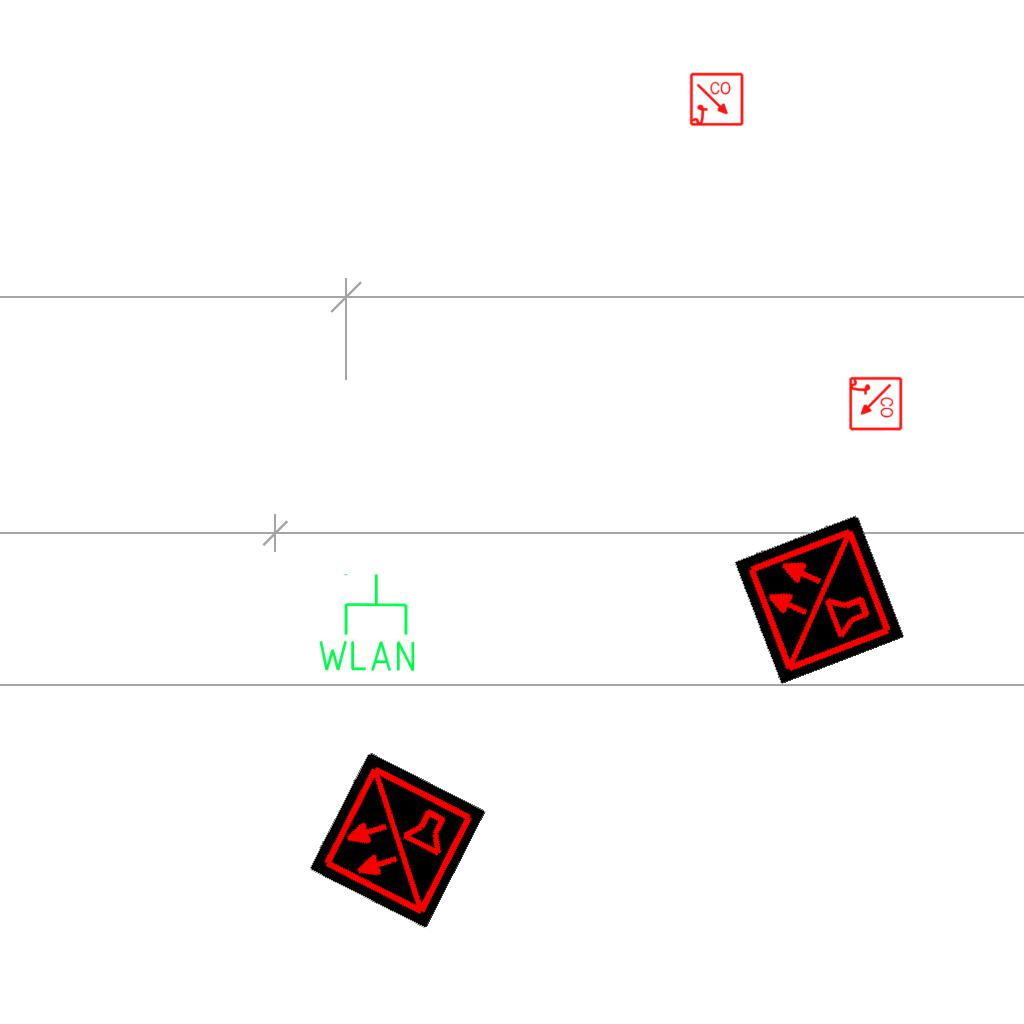OKW_Multisensormelder_(Kombination_optischer_Rauch-Kahlenmonoxid_Waerme-Melder): (308, 751, 486, 929), (733, 513, 905, 685)
ROA_Rauchmelder_optisch_mit_Signalgeber_(Sockelsirene): (847, 376, 903, 432), (689, 72, 745, 128)
WLAN: (314, 571, 419, 675)
